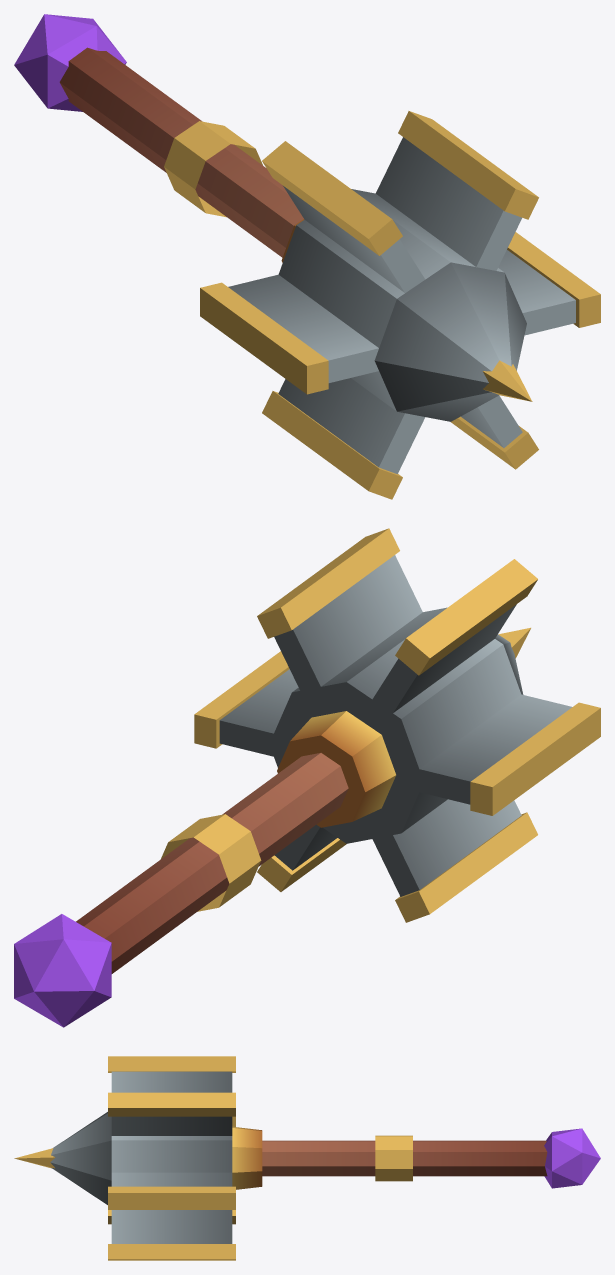
Rendered from paladin_mace_t3_epic.glb.
The picture shows the model from 3 angles, top to bottom: view 1: azimuth 30°, elevation 25°; view 2: azimuth 150°, elevation 25°; view 3: azimuth 270°, elevation 25°; orthographic projection. The views are drawn at different scales.
Parts seen in each view (by area): view 1: paladin_mace_t3_epic__handslot_r; view 2: paladin_mace_t3_epic__handslot_r; view 3: paladin_mace_t3_epic__handslot_r.
Boxes of the visible parts, x1,y1,x2,y2 form: paladin_mace_t3_epic__handslot_r: (14,14,600,499); paladin_mace_t3_epic__handslot_r: (14,528,600,1027); paladin_mace_t3_epic__handslot_r: (14,1056,600,1260).
Bounding box in the file's own units: 0.54 × 0.4927 × 1.56.
Materials: 3 (2 with a texture image).
